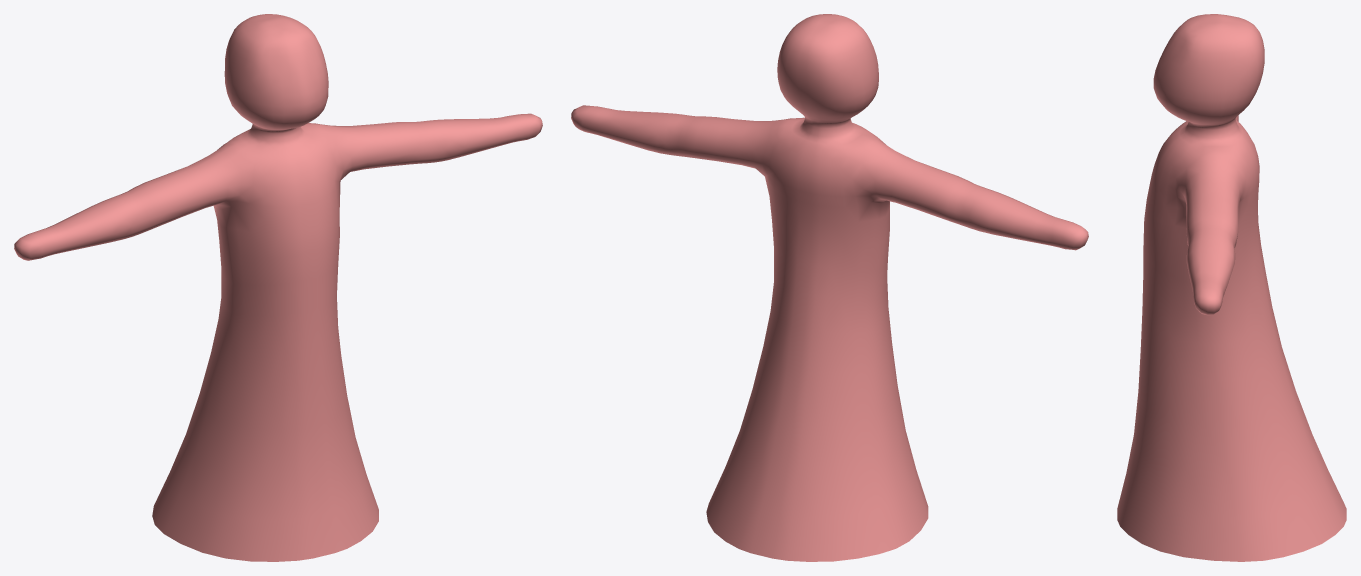
Rendered from pnj_wip.FBX.
3 views of the same model, side by side, from view 1: azimuth 30°, elevation 25°; view 2: azimuth 150°, elevation 25°; view 3: azimuth 270°, elevation 25° (orthographic). The views are drawn at different scales.
Parts seen in each view (by area): view 1: Cylinder001; view 2: Cylinder001; view 3: Cylinder001.
Part boxes in pixels (left/top/right/bottom): Cylinder001: left=14, top=14, right=542, bottom=561; Cylinder001: left=571, top=14, right=1088, bottom=561; Cylinder001: left=1117, top=14, right=1346, bottom=561.
Size of the model in its own units: 155 by 141 by 59.15.
